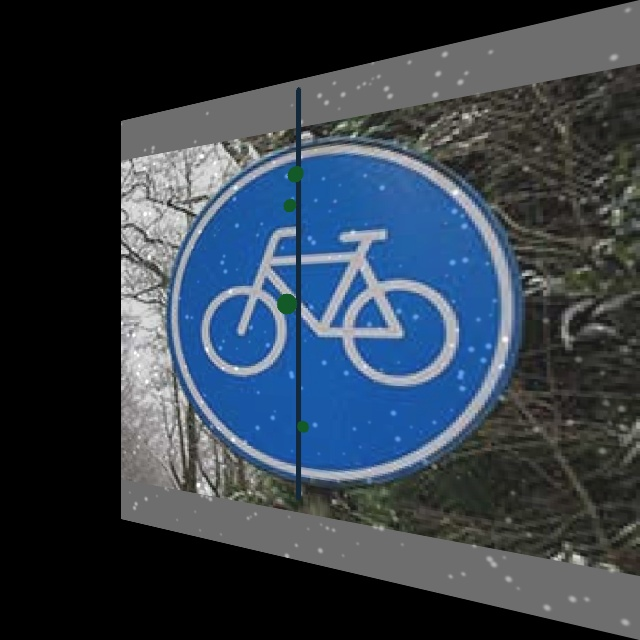Compulsory_Cycle_Track: (172, 116, 523, 490)
